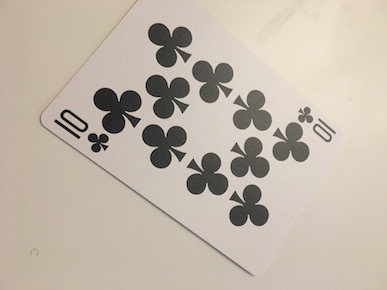TenOfClubs: (37, 1, 343, 279)
